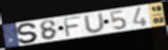4: (132, 6, 149, 28)
5: (109, 9, 128, 31)
8: (38, 20, 58, 41)
F: (62, 15, 83, 38)
S: (15, 22, 40, 44)
U: (83, 12, 107, 34)
